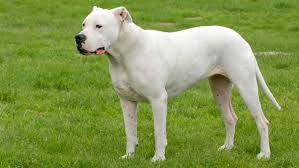dog: (72, 2, 286, 163)
